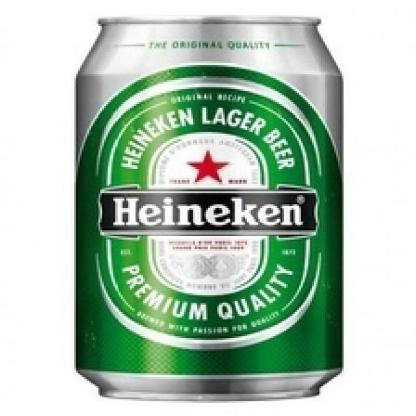Can: (72, 15, 345, 403)
